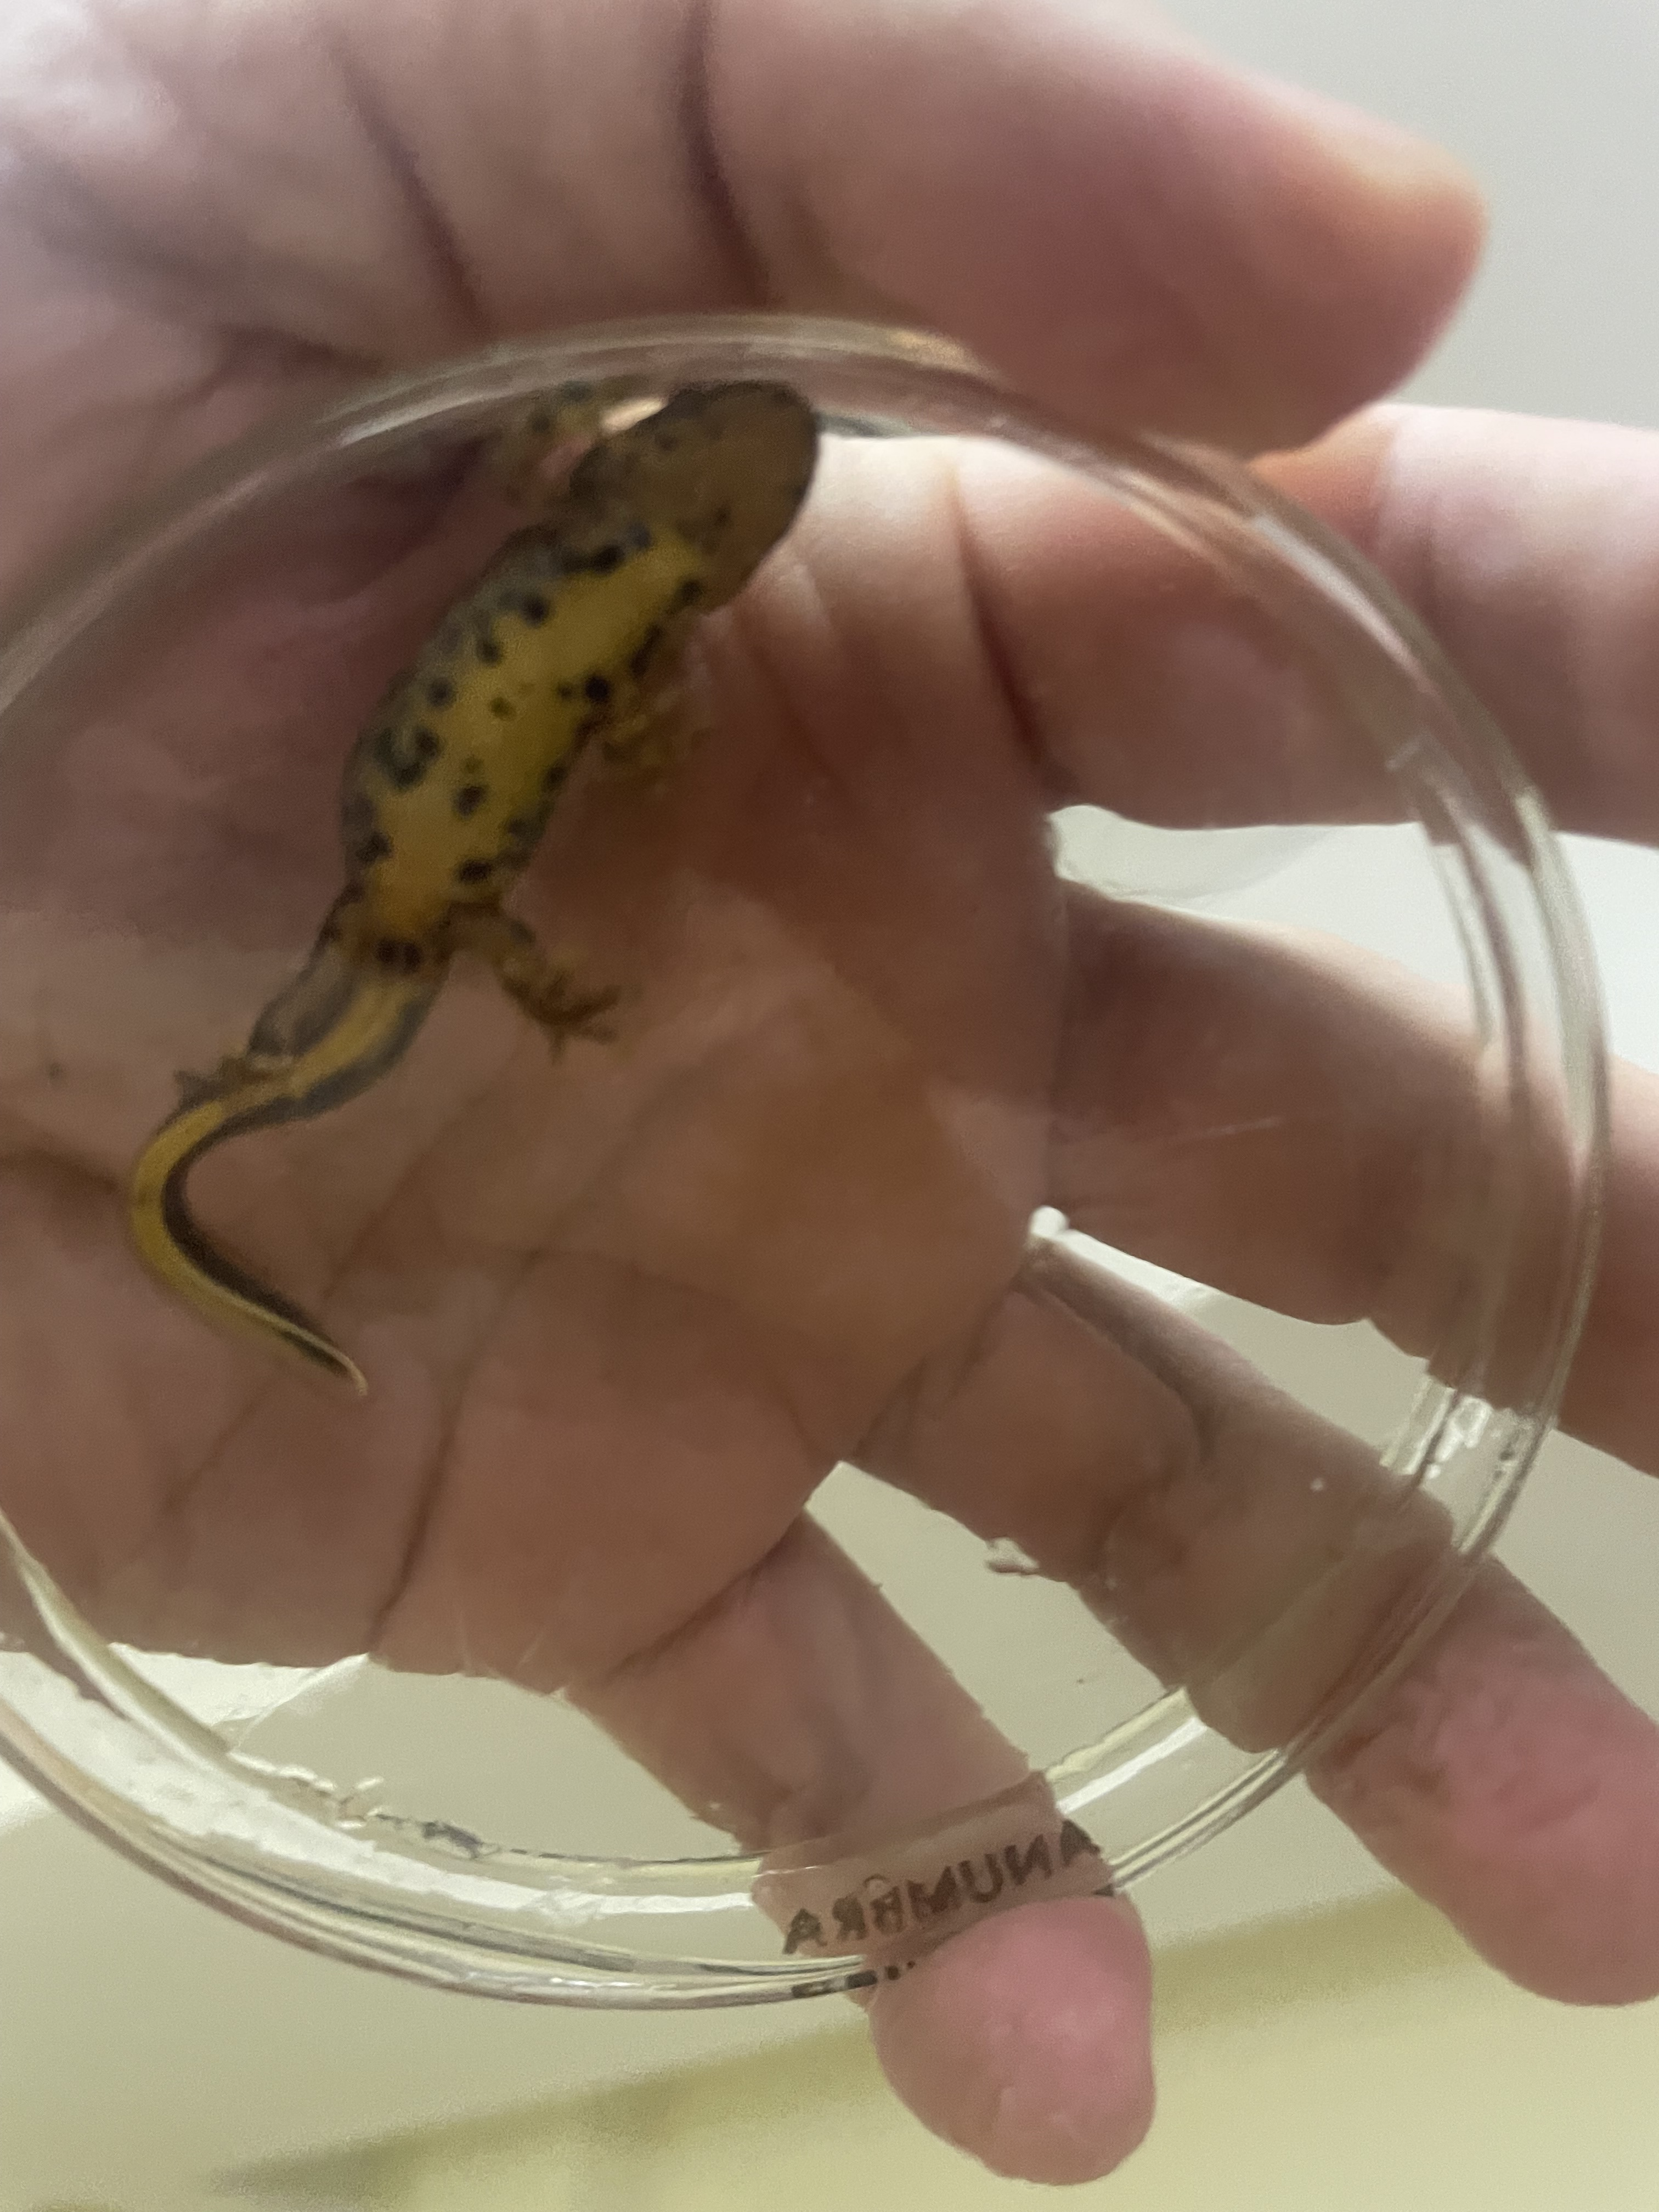Karelin_newt: (340, 524, 657, 906)
